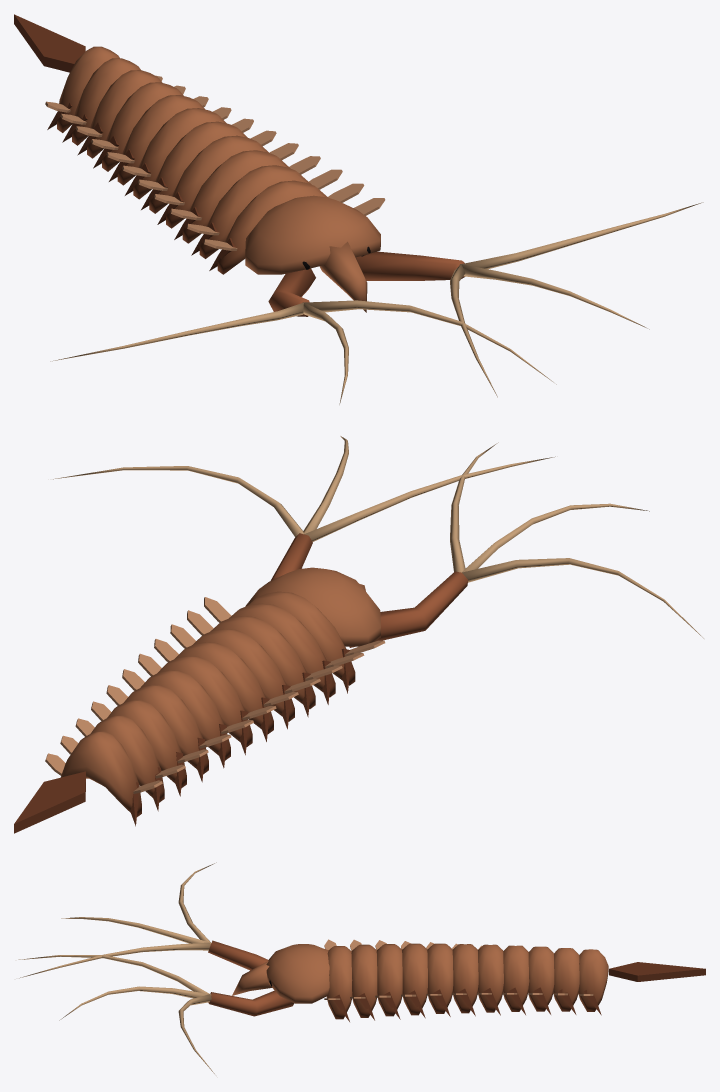
The model's file is Leanchoilia.fbx.
3 renders of one model, top to bottom at view 1: azimuth 30°, elevation 25°; view 2: azimuth 150°, elevation 25°; view 3: azimuth 270°, elevation 25°, orthographic. The views are drawn at different scales.
Parts seen in each view (by area): view 1: Leanchoilia; view 2: Leanchoilia; view 3: Leanchoilia.
Boxes of the visible parts, x1,y1,x2,y2 form: Leanchoilia: [14, 14, 703, 404]; Leanchoilia: [14, 436, 703, 833]; Leanchoilia: [18, 862, 705, 1073].
Size of the model in its own units: 1.42 by 0.1731 by 1.93.
